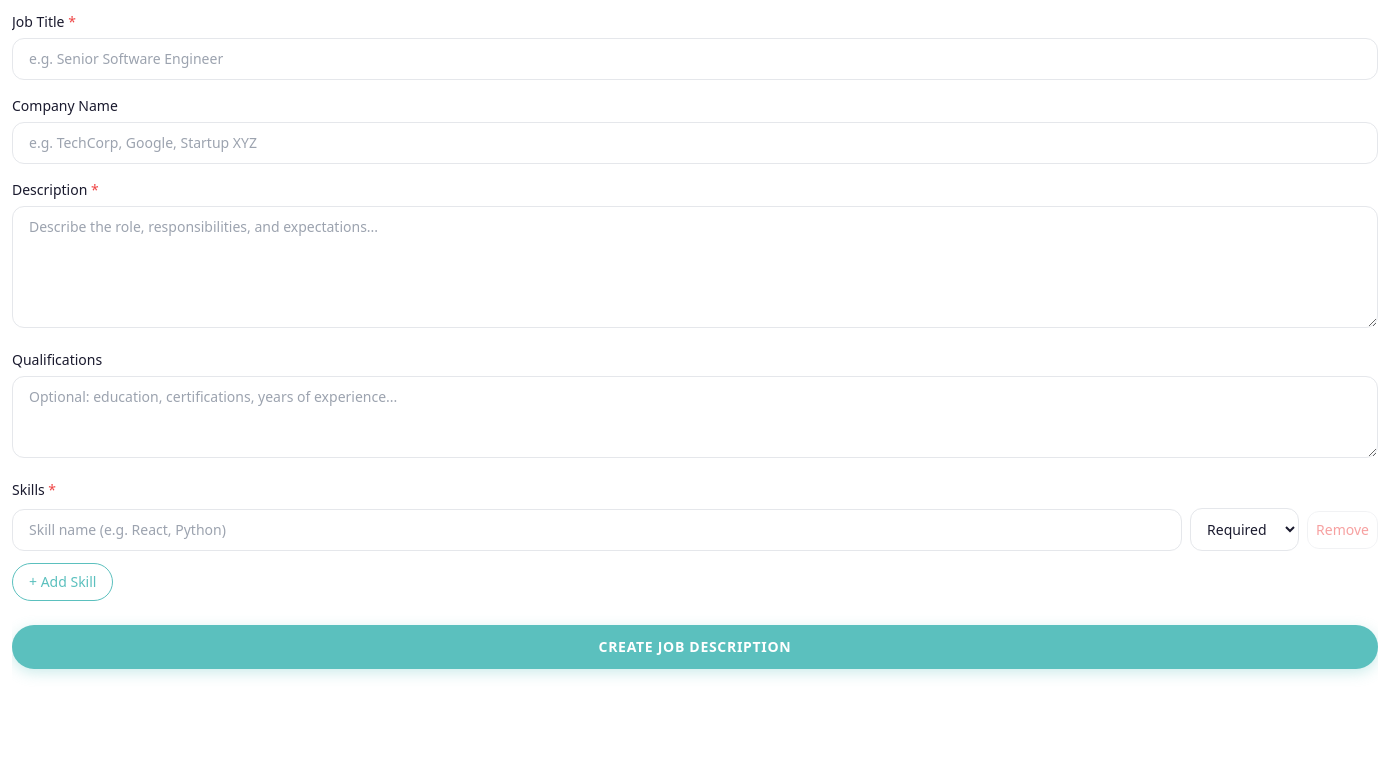
Test: JobDescriptionForm › shows validation error when title is empty
Note: Fill in a skill but leave title empty
Type "React" into the field named "Skill 1 name" at (597, 530), box [12,508,1182,550]
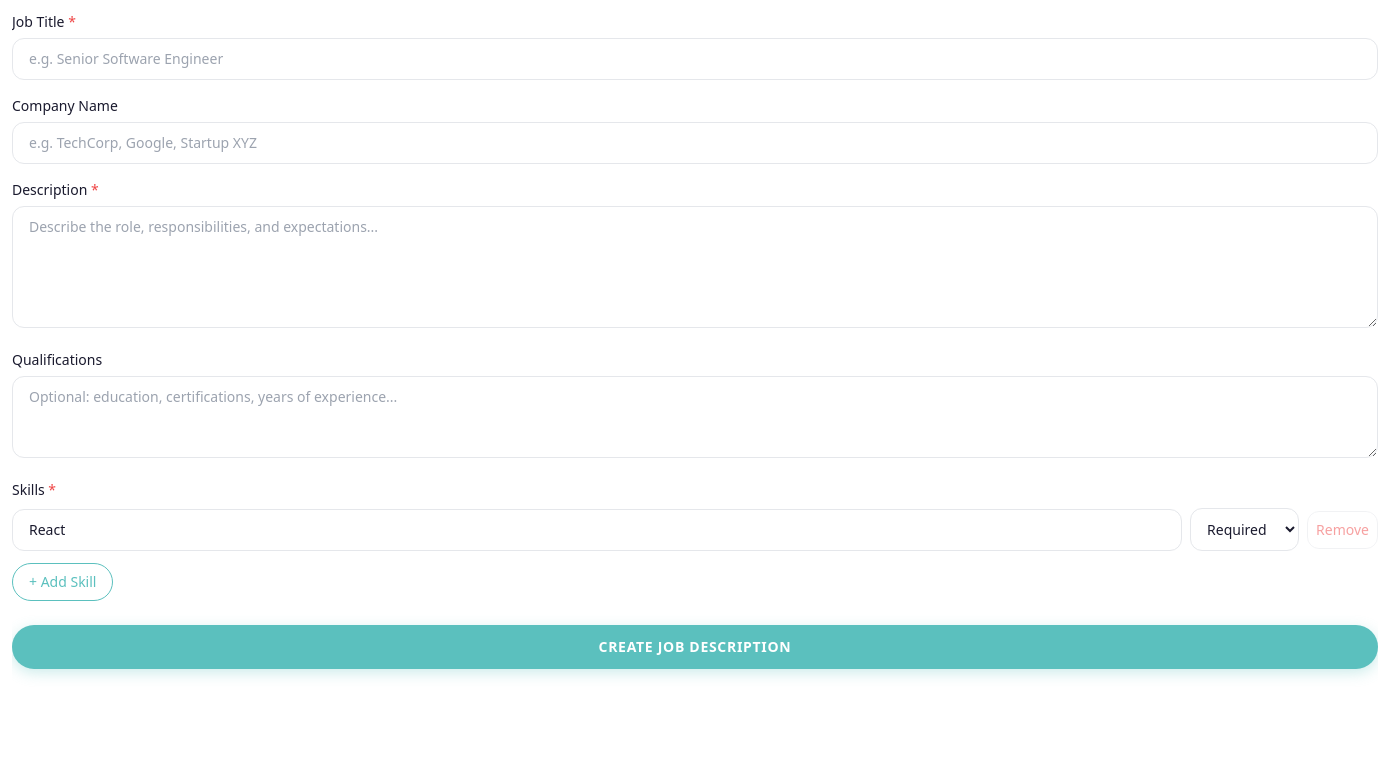
Click the button "Create Job Description" at (695, 647), box [12,625,1378,669]
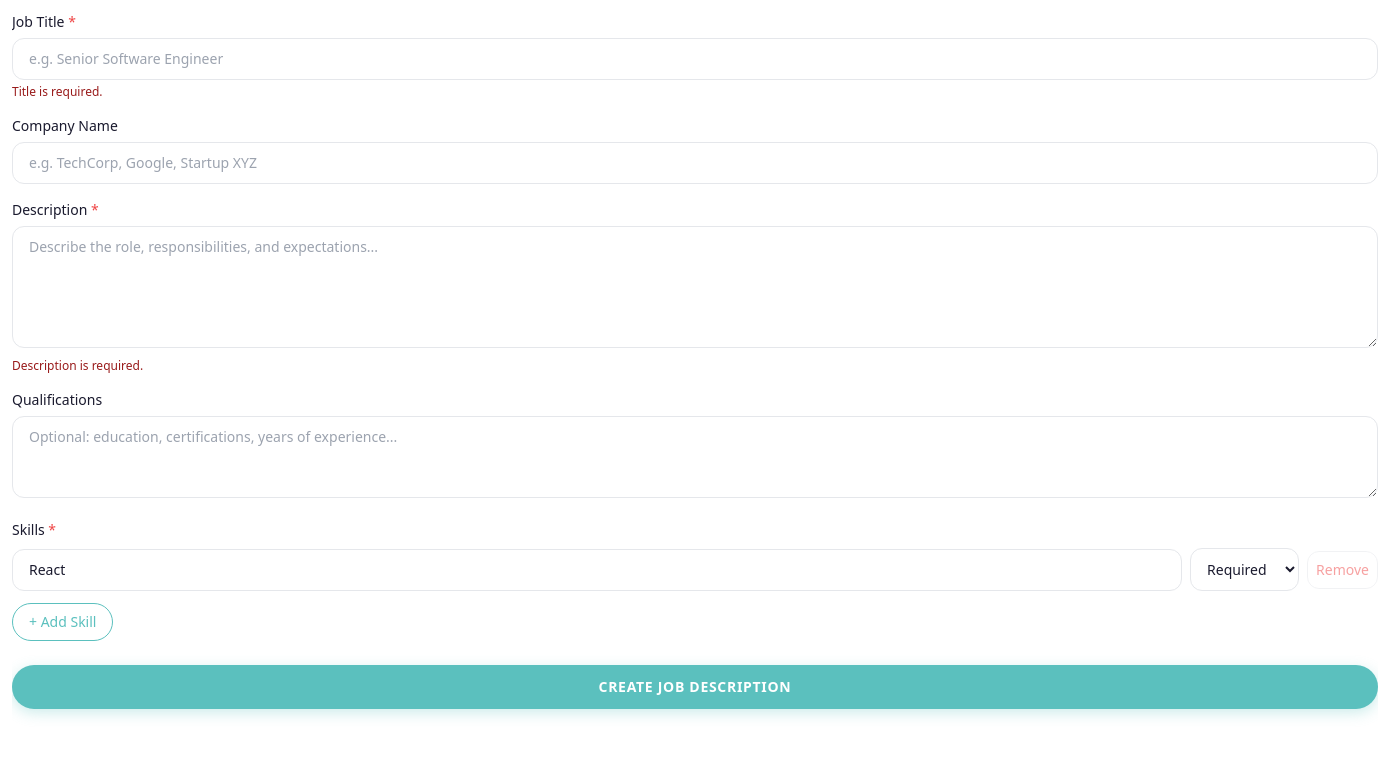
Expected: the text "Title is required." is shown, [12,83,102,100]
